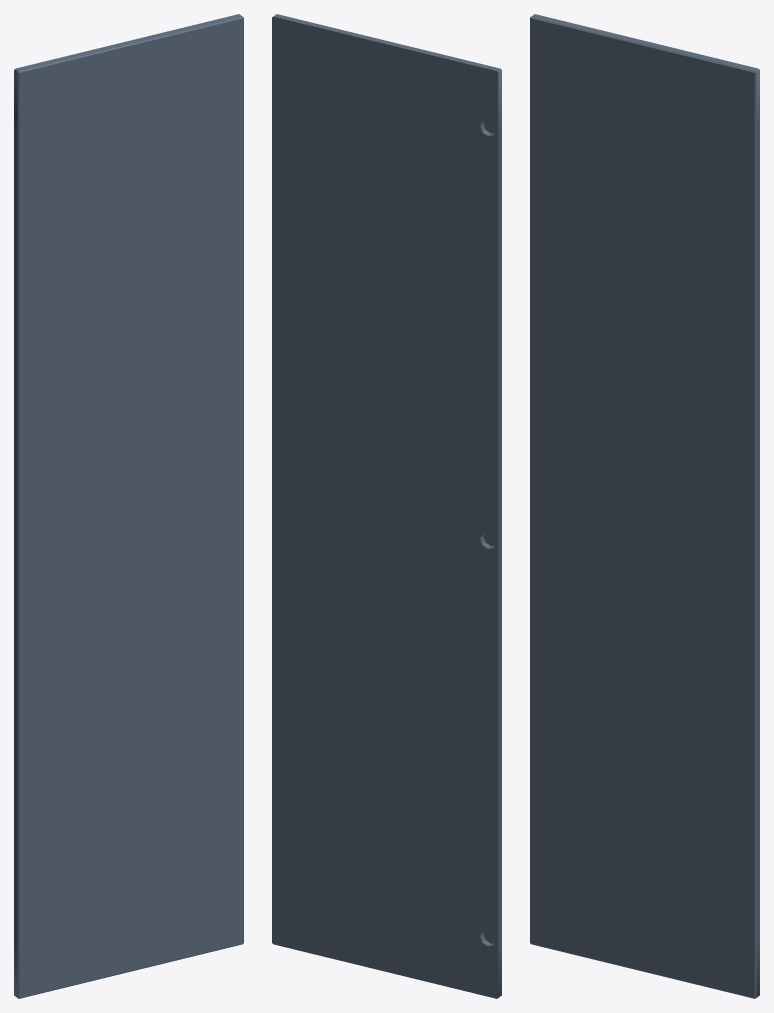
3 views of the same model, side by side, from view 1: azimuth 30°, elevation 25°; view 2: azimuth 150°, elevation 25°; view 3: azimuth 330°, elevation 25° (orthographic).
Visible parts, largest first — view 1: 90425495_door_50x195_black_blue001:1, 90425495_door_50x195_black_blue001:2; view 2: 90425495_door_50x195_black_blue001:3, 90425495_door_50x195_black_blue001:2, 90425495_door_50x195_black_blue001:4; view 3: 90425495_door_50x195_black_blue001:1, 90425495_door_50x195_black_blue001:2.
Part boxes in pixels (left/top/right/bottom): 90425495_door_50x195_black_blue001:1: left=19, top=18, right=243, bottom=998; 90425495_door_50x195_black_blue001:2: left=14, top=14, right=243, bottom=998; 90425495_door_50x195_black_blue001:3: left=272, top=16, right=498, bottom=998; 90425495_door_50x195_black_blue001:2: left=273, top=14, right=501, bottom=997; 90425495_door_50x195_black_blue001:4: left=480, top=119, right=495, bottom=946; 90425495_door_50x195_black_blue001:1: left=530, top=18, right=754, bottom=998; 90425495_door_50x195_black_blue001:2: left=530, top=14, right=759, bottom=998.
Size of the model in its own units: 496 by 1942 by 16.
